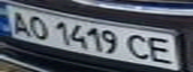1: (48, 18, 72, 45), (84, 25, 103, 53)
4: (66, 21, 87, 50)
9: (100, 27, 121, 55)
A: (3, 8, 33, 37)
C: (124, 32, 154, 62)
E: (145, 34, 181, 65)
O: (24, 12, 51, 42)
